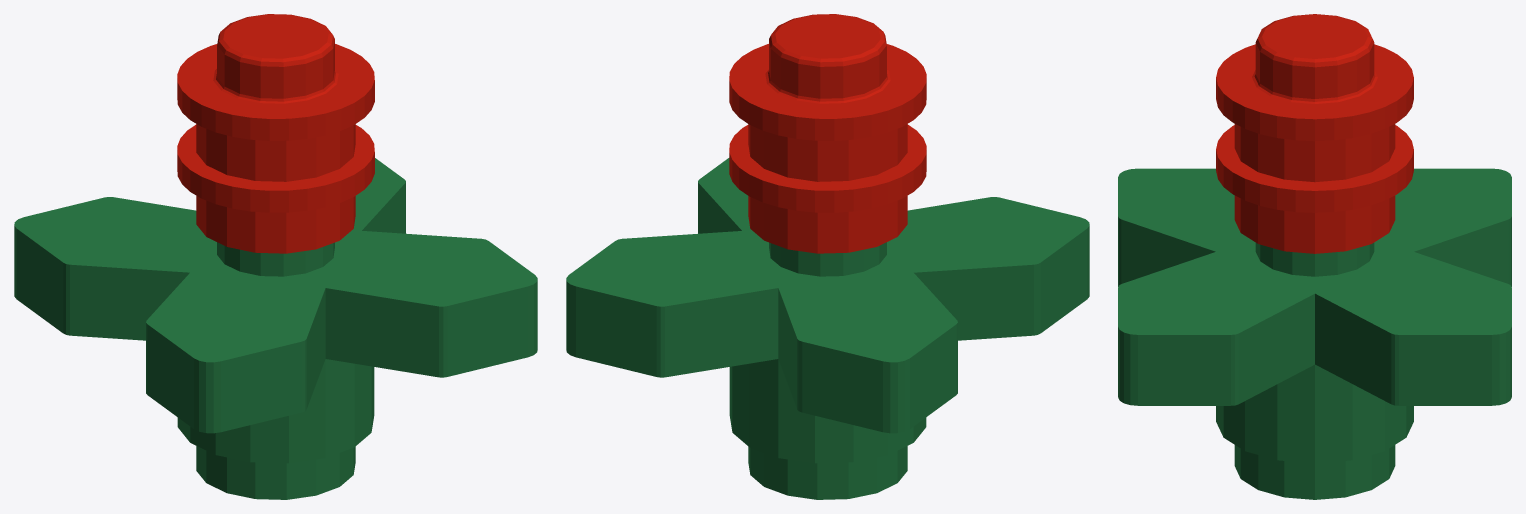
Rendered from flower_red.glb.
3 views of the same model, side by side, from view 1: azimuth 30°, elevation 25°; view 2: azimuth 150°, elevation 25°; view 3: azimuth 270°, elevation 25° (orthographic).
Parts seen in each view (by area): view 1: flower_red; view 2: flower_red; view 3: flower_red.
Boxes of the visible parts, box(x1,y1,x2,y2) form: flower_red: box(14, 14, 537, 499); flower_red: box(566, 14, 1089, 499); flower_red: box(1118, 14, 1511, 499).
Bounding box in the file's own units: 0.7562 × 0.9101 × 0.7562.
